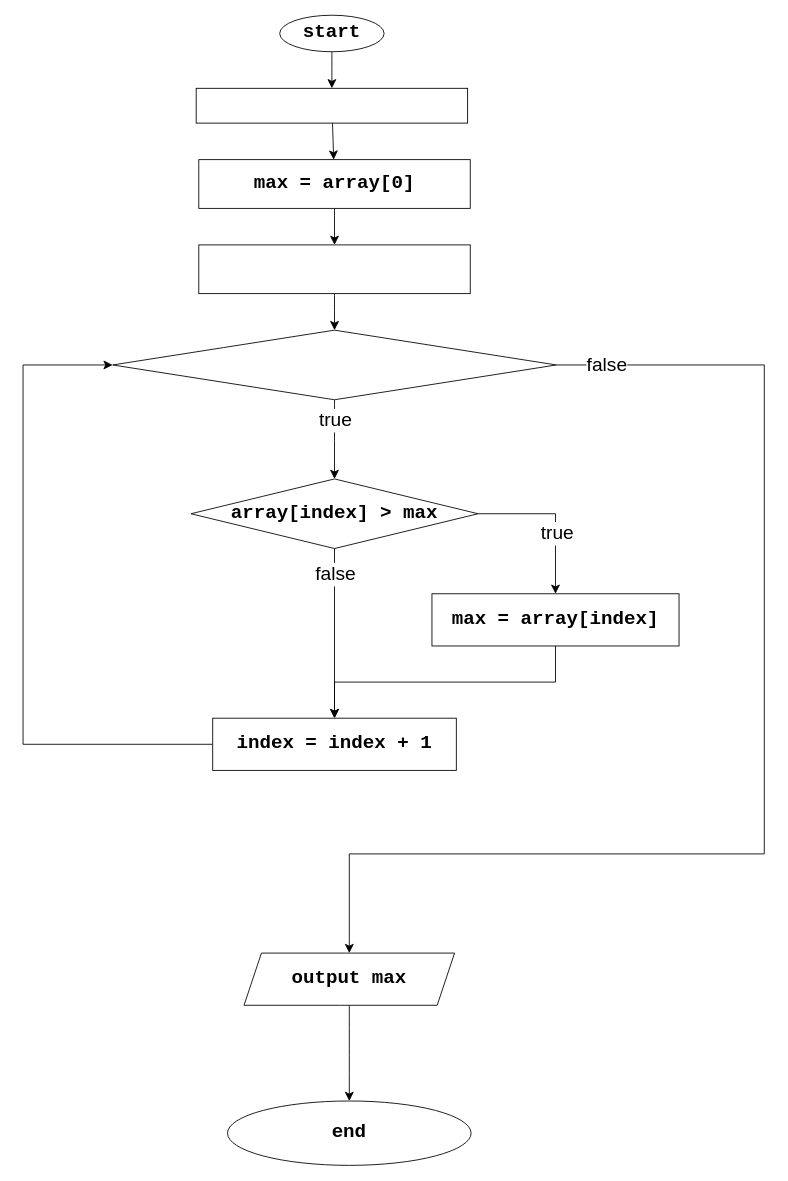
Some shapes in this 788 by 1181 pixel diagram are drawn without their labels. The shapes that lost their labels are listed below. From the top down, each one's centre as x and y in pixels, then its label:
point (331, 105): array=[]
point (334, 269): index = 0
point (334, 364): index < size(array)
